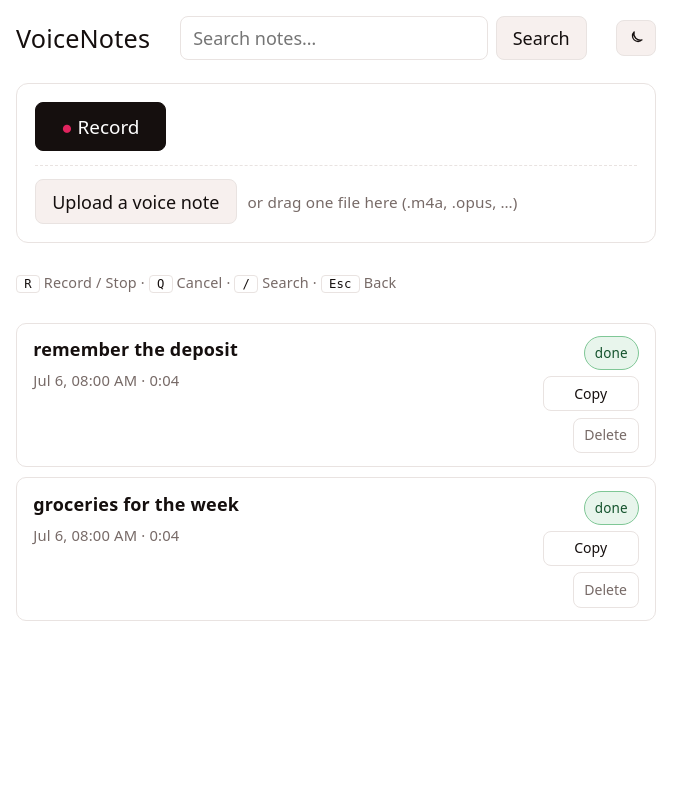
Test: a failed undo keeps the trace and says so, never pretending the note came back
The image size is (673, 787).
Expected: the text "remember the deposit" is shown, [33,337,238,361]
Click the 1st button "Delete": (606, 435) [572,418,639,453]
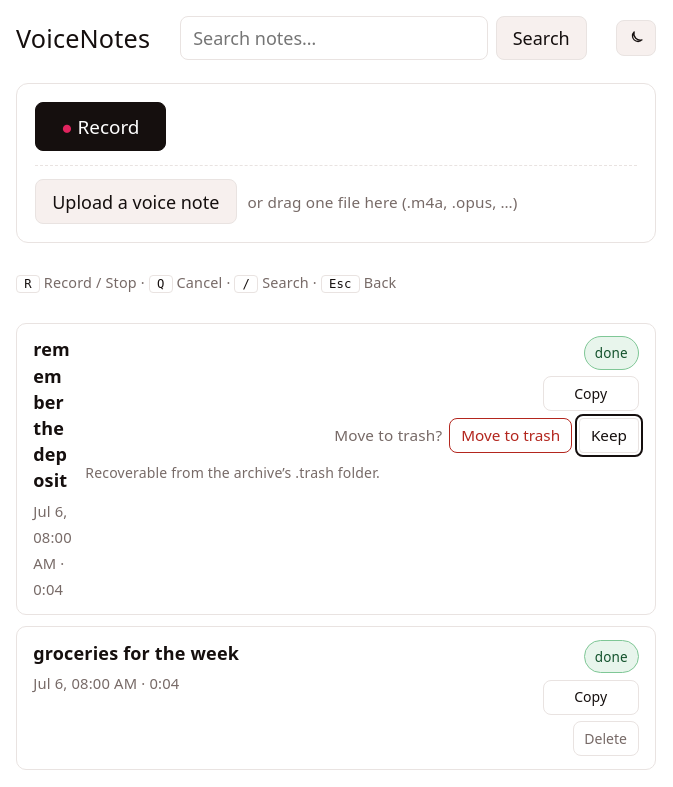
Click the button "Move to trash": (511, 435) [449,418,572,453]
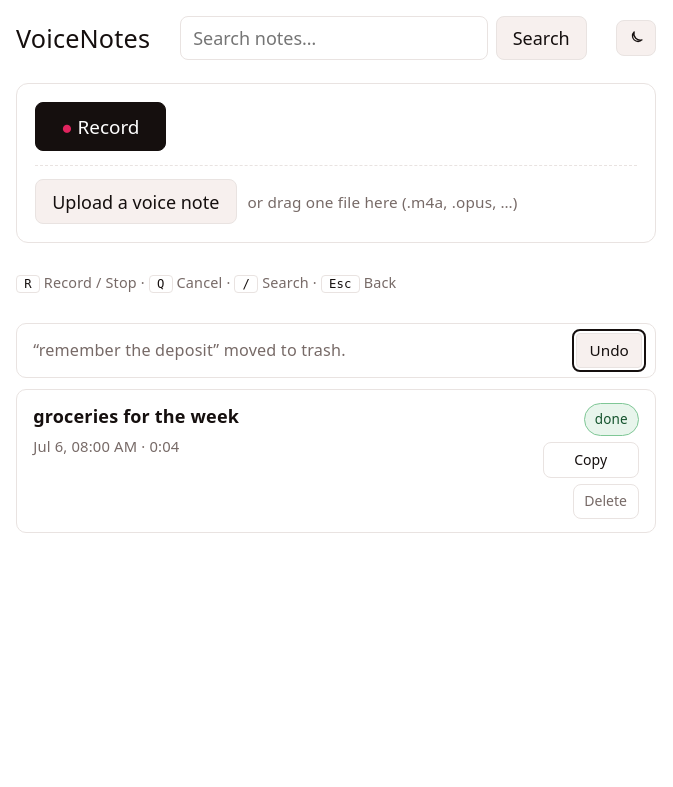
Click the button "Undo": (609, 350) [576,333,642,368]
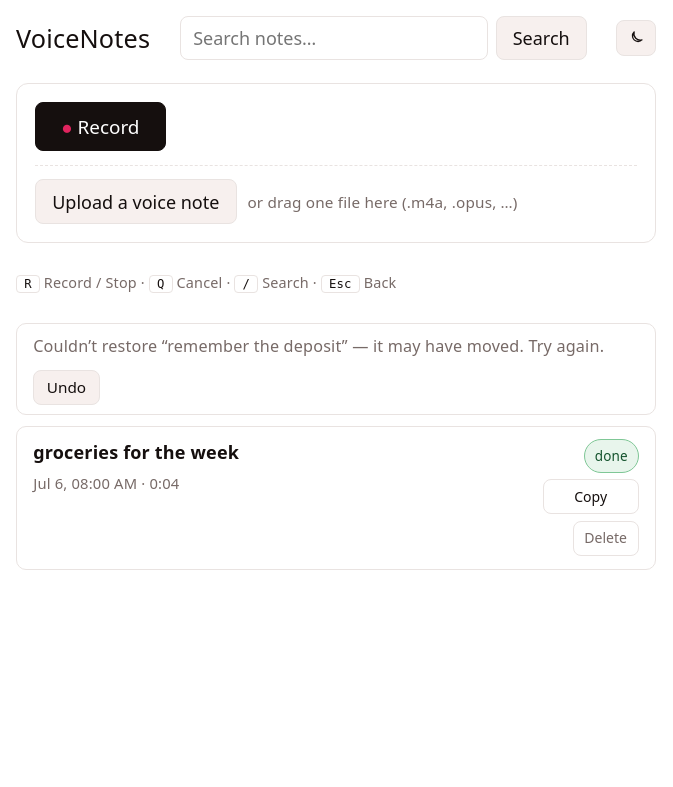
Expected: the button "Undo" is enabled, [33,370,100,405]
Expected: the text "couldn.t restore" is shown, [33,335,604,357]
